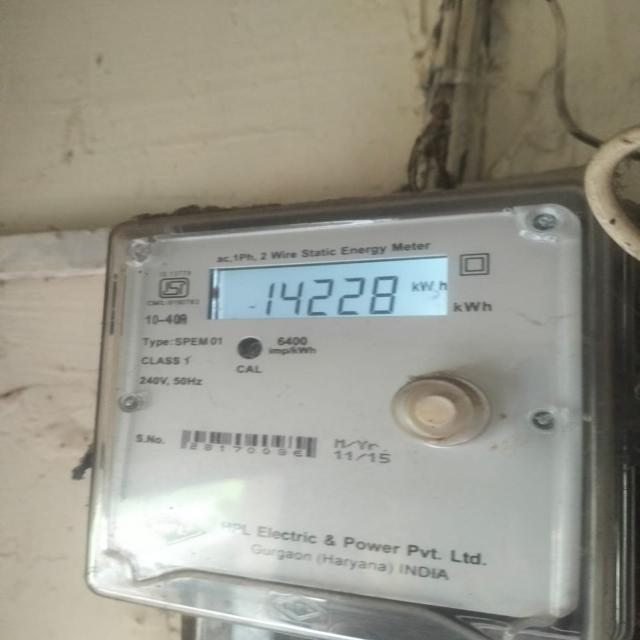display: (201, 258, 448, 327)
